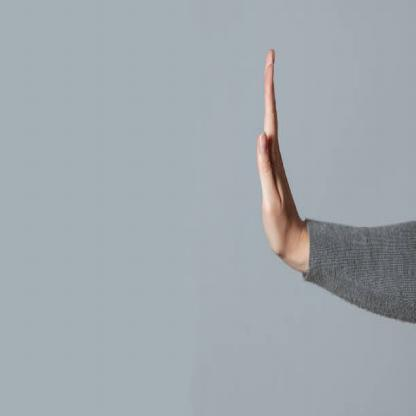stop: (247, 38, 299, 265)
